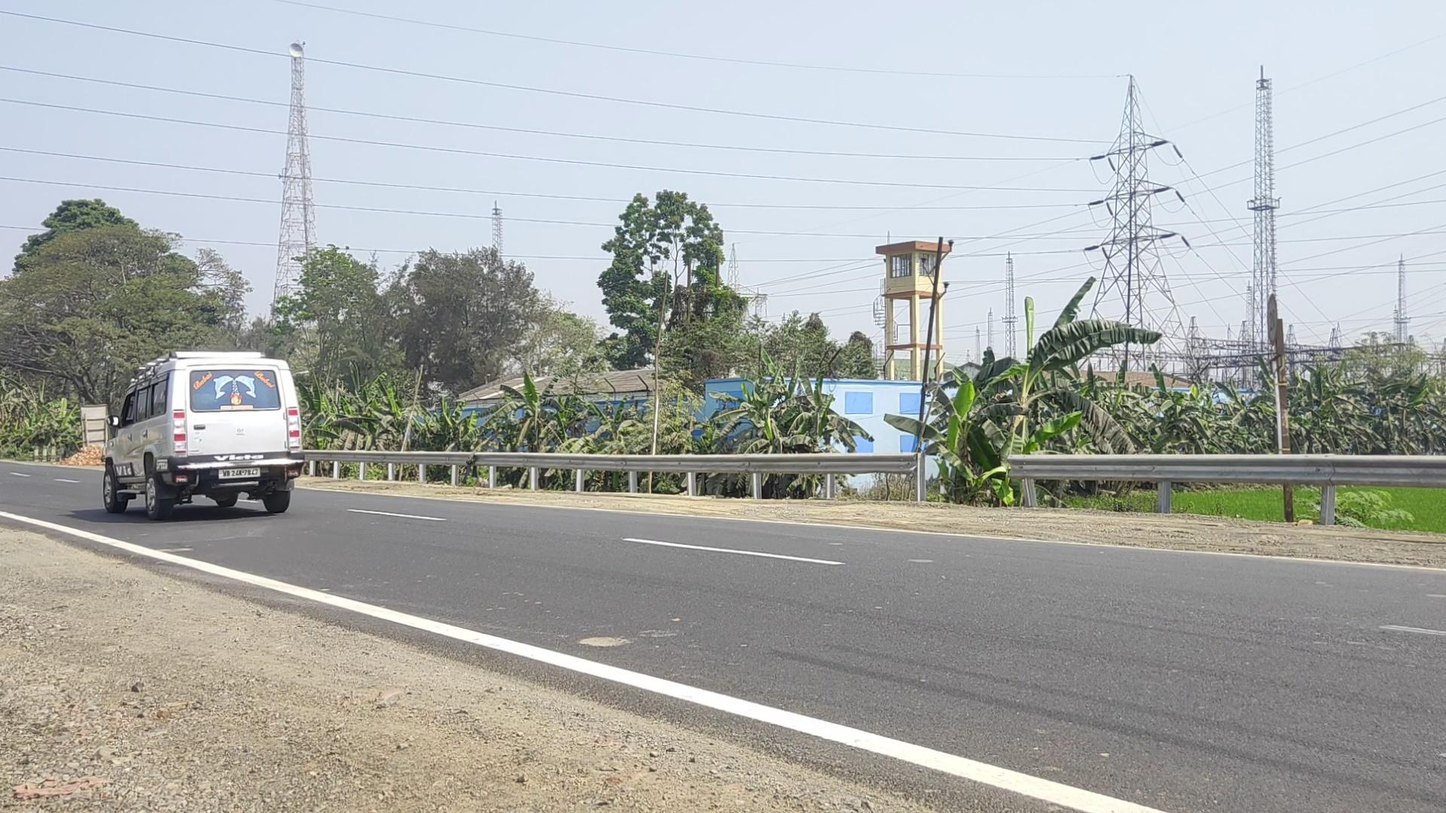car: (102, 350, 304, 519)
